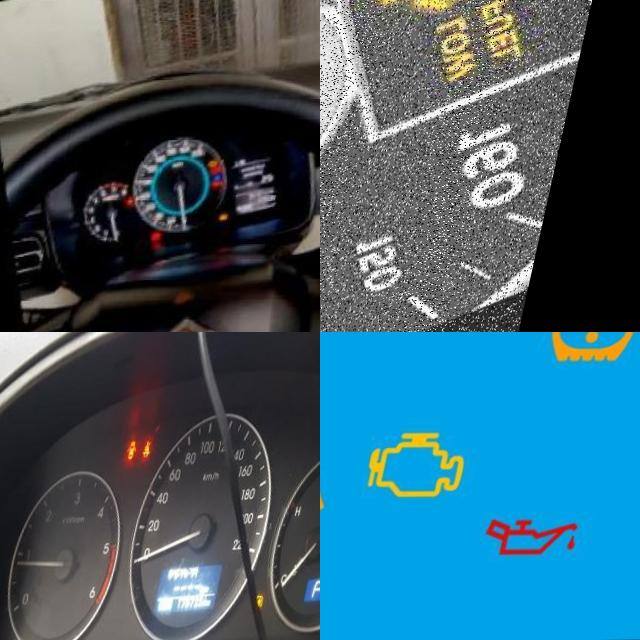Doors: (135, 440, 147, 459)
High Engine Coolant Temperature: (220, 171, 230, 179)
